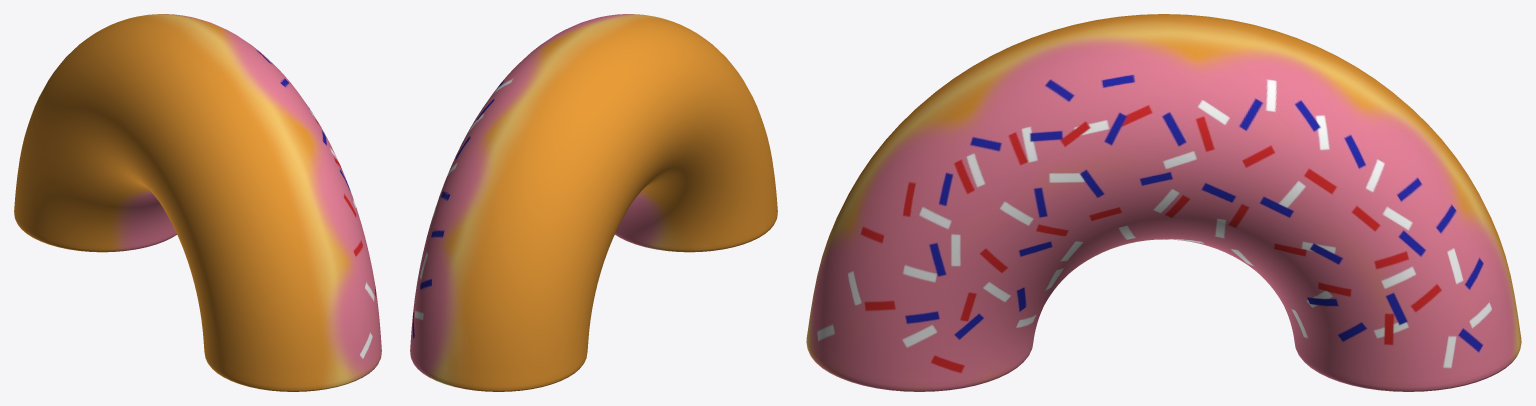
Rendered from half_donut.glb.
3 views of the same model, side by side, from view 1: azimuth 30°, elevation 25°; view 2: azimuth 150°, elevation 25°; view 3: azimuth 270°, elevation 25° (orthographic). The views are drawn at different scales.
Visible parts, largest first — view 1: Bread_Donut; view 2: Bread_Donut; view 3: Bread_Donut.
Part boxes in pixels (x1,y1,x2,y2): Bread_Donut: [14, 14, 381, 391]; Bread_Donut: [410, 14, 777, 391]; Bread_Donut: [806, 14, 1521, 391].
Size of the model in its own units: 208 by 325 by 654.
1 material, 1 textured.
